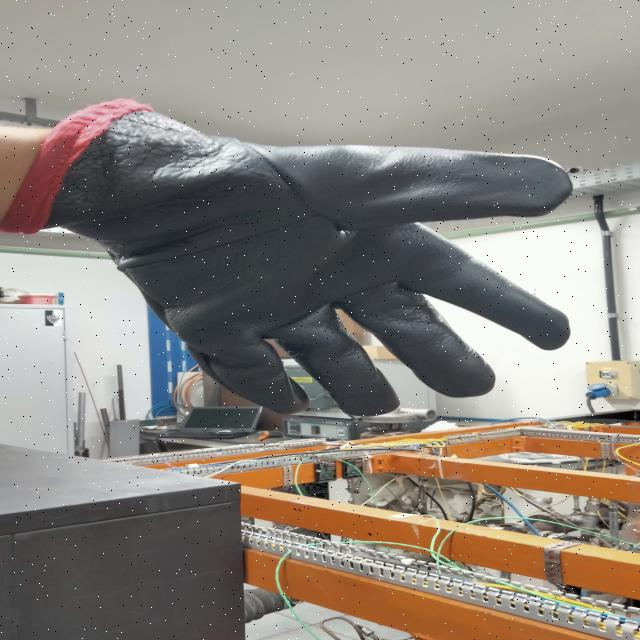Gloves: (19, 98, 586, 414)
